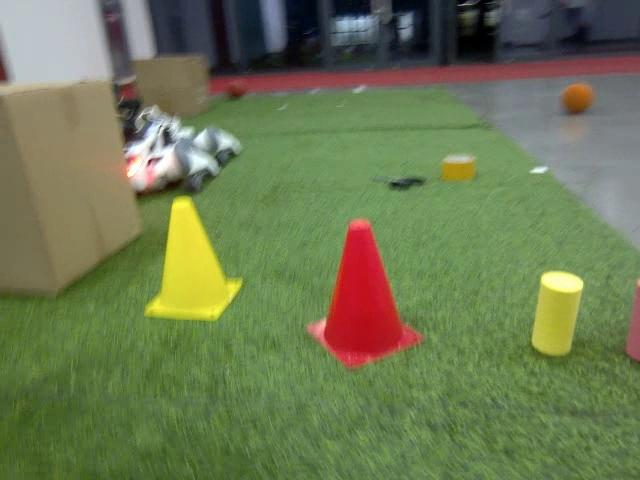orange_ball: (558, 82, 598, 118)
red_barrel: (304, 214, 424, 373)
yellow_barrel: (144, 195, 244, 327)
yellow_cylinder: (529, 266, 587, 360)
